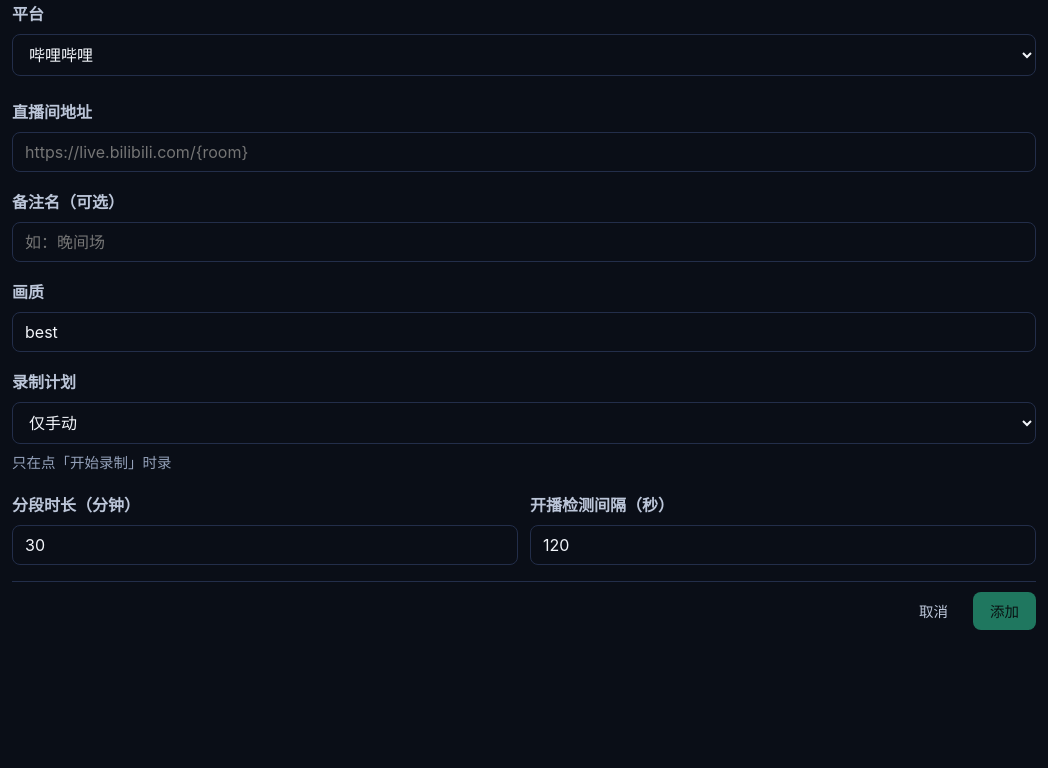
Scenario: RecordPlanForm 组件 › 录制计划带说明文案（用户知道自己选了什么）
The image size is (1048, 768).
Select "开播即录" in the dropdown labelled "录制计划 只在点「开始录制」时录" at (524, 423), box [12,402,1036,444]
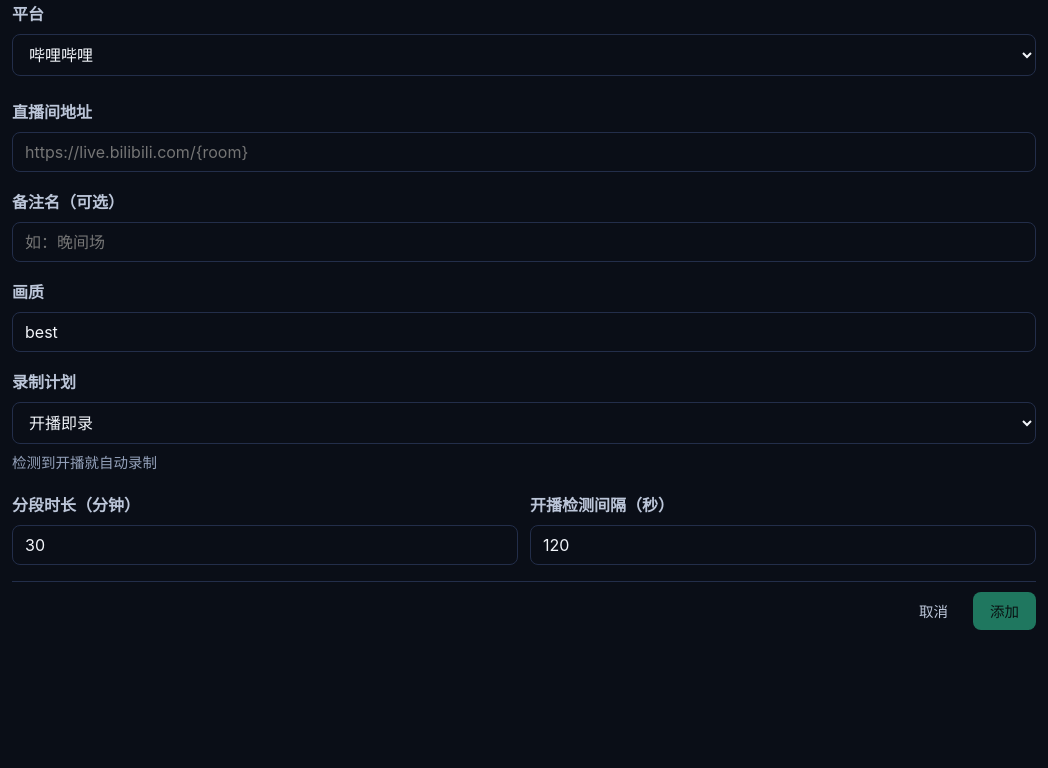
Check: the text "检测到开播就自动录制" is shown, box [12,454,157,471]
